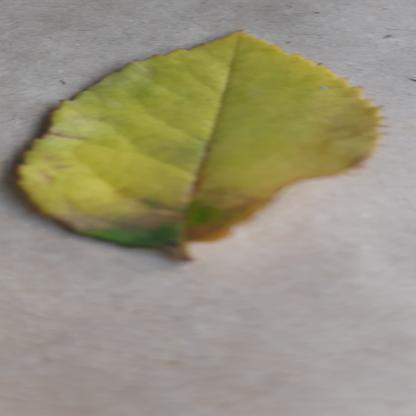black-spot: (5, 29, 387, 248)
